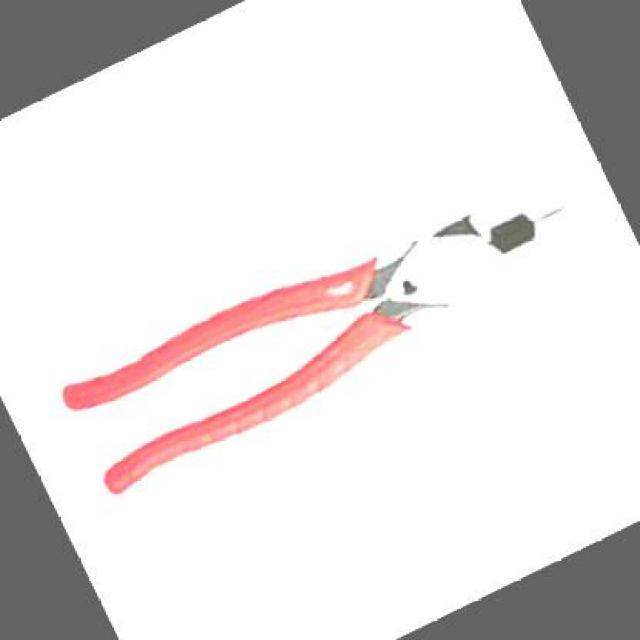pliers: (36, 120, 638, 554)
